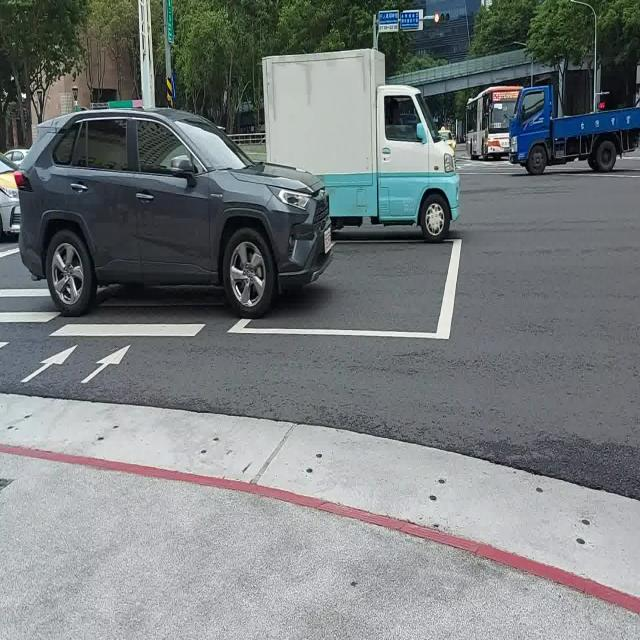bus: (466, 84, 521, 160)
car: (16, 107, 332, 318), (0, 158, 20, 238), (439, 127, 456, 153)
crosswalk: (0, 287, 61, 352), (48, 321, 208, 337)
trunk: (262, 49, 459, 241), (510, 84, 640, 174)
